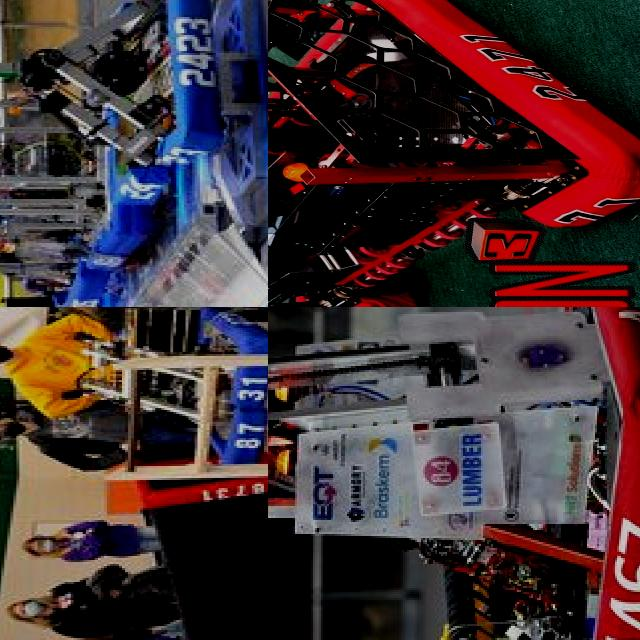FRC-Robots: (268, 307, 640, 640), (268, 0, 640, 307), (0, 0, 233, 207), (0, 30, 172, 276), (73, 307, 268, 474), (0, 187, 127, 307)
